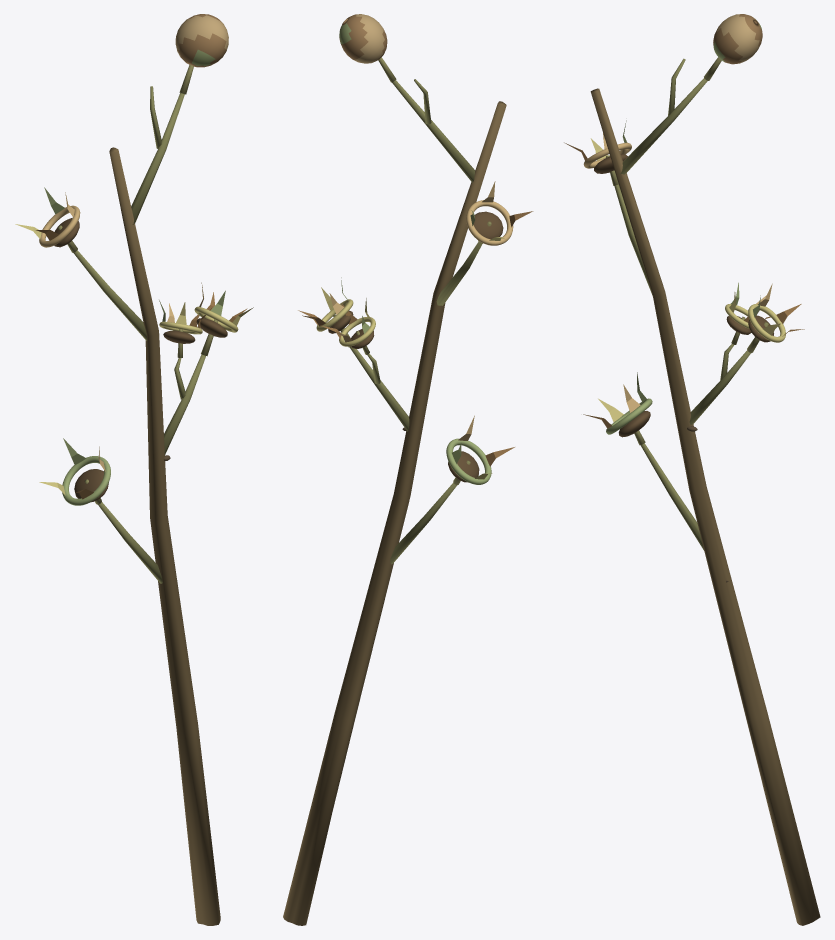
Rendered from branch_variant_F_dry_brown_01.dae.
The picture shows the model from 3 angles, left to right: view 1: azimuth 30°, elevation 25°; view 2: azimuth 150°, elevation 25°; view 3: azimuth 330°, elevation 25°; orthographic projection. The views are drawn at different scales.
Visible parts, largest first — view 1: branch_main_F_01, brown_boll_F_01, socket_F_01, socket_F_04, socket_F_03, branch_side_F_04, socket_F_02, branch_side_F_03, branch_side_F_02, branch_side_F_01; view 2: branch_main_F_01, brown_boll_F_01, socket_F_01, socket_F_04, socket_F_03, branch_side_F_04, socket_F_02, branch_side_F_01, branch_side_F_02, branch_side_F_03; view 3: branch_main_F_01, brown_boll_F_01, socket_F_01, socket_F_03, branch_side_F_04, socket_F_04, branch_side_F_01, branch_side_F_02, socket_F_02.
Part boxes in pixels (x1,y1,x2,y2): branch_main_F_01: (109, 147, 220, 925); brown_boll_F_01: (175, 14, 228, 67); socket_F_01: (39, 438, 110, 505); socket_F_04: (15, 187, 80, 247); socket_F_03: (194, 282, 253, 337); branch_side_F_04: (131, 93, 184, 224); socket_F_02: (159, 300, 211, 343); branch_side_F_03: (73, 250, 147, 340); branch_side_F_02: (164, 354, 205, 454); branch_side_F_01: (98, 502, 162, 583); branch_main_F_01: (283, 101, 506, 925); brown_boll_F_01: (339, 14, 387, 63); socket_F_01: (446, 415, 514, 484); socket_F_04: (466, 181, 533, 245); socket_F_03: (298, 277, 353, 333); branch_side_F_04: (392, 80, 475, 182); socket_F_02: (320, 298, 375, 348); branch_side_F_01: (390, 482, 456, 564); branch_side_F_02: (350, 347, 409, 431); branch_side_F_03: (436, 242, 482, 305); branch_main_F_01: (590, 88, 820, 925); brown_boll_F_01: (713, 14, 762, 64); socket_F_01: (583, 372, 652, 437); socket_F_03: (748, 283, 804, 342); branch_side_F_04: (619, 78, 707, 174); socket_F_04: (564, 120, 631, 173); branch_side_F_01: (640, 443, 704, 550); branch_side_F_02: (689, 350, 750, 424); socket_F_02: (725, 282, 770, 334).
Bounding box in the file's own units: 0.1704 × 0.087 × 0.6604.
